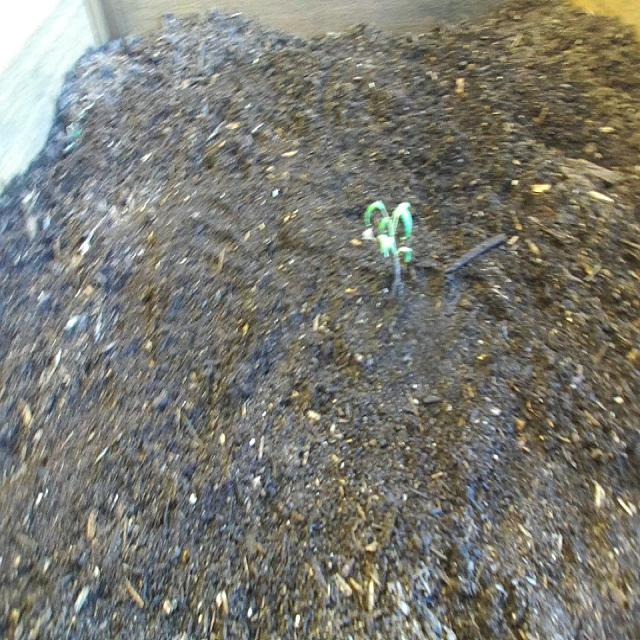Healthy: (361, 195, 417, 292)
